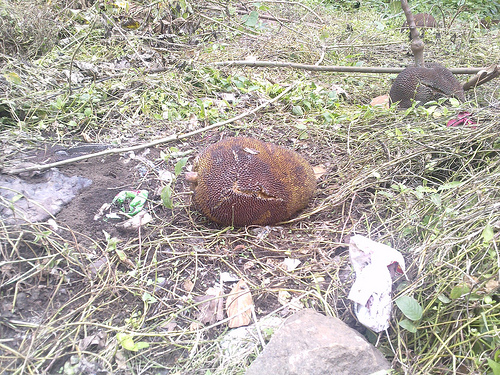jackfruit: (182, 137, 318, 229), (389, 63, 467, 109)
